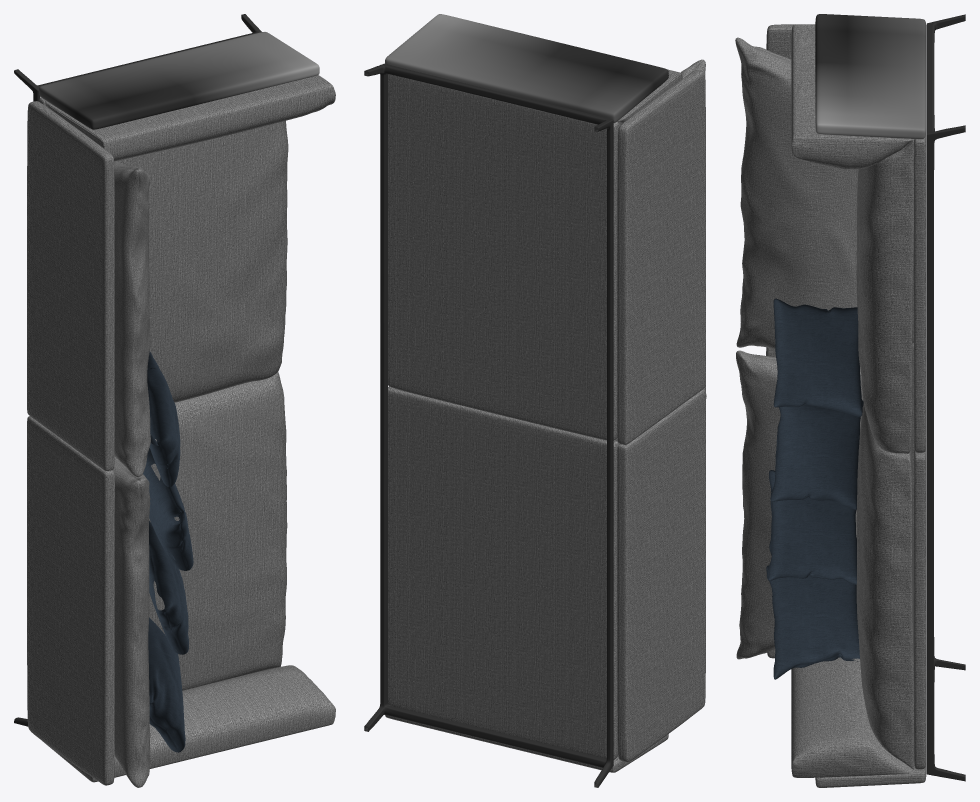
Rendered from Fauborg Sofa N021025.obj.
3 views of the same model, side by side, from view 1: azimuth 30°, elevation 25°; view 2: azimuth 150°, elevation 25°; view 3: azimuth 270°, elevation 25° (orthographic).
Visible parts, largest first — view 1: Object003_Retopo, Object004_Retopo, Object008, Object007, Object012, Object001_Retopo, Object002_Retopo, Object005, Object006, Object013_Retopo, Object014_Retopo, Object015_Retopo (+2 smaller); view 2: Object010, Object011, Object008, Object007, Object012, frame_Retopo, Object009, Object006; view 3: Object002_Retopo, Object004_Retopo, Object003_Retopo, Object012, Object001_Retopo, Object005, Object016_Retopo, Object015_Retopo, Object013_Retopo, frame_Retopo, Object014_Retopo, Object006 (+5 smaller).
Boxes of the visible parts, x1,y1,x2,y2 form: Object003_Retopo: [46, 105, 288, 402]; Object004_Retopo: [149, 371, 287, 690]; Object008: [27, 101, 114, 470]; Object007: [27, 416, 114, 785]; Object012: [39, 32, 319, 129]; Object001_Retopo: [112, 456, 150, 787]; Object002_Retopo: [114, 161, 150, 477]; Object005: [114, 665, 335, 777]; Object006: [44, 75, 335, 161]; Object013_Retopo: [148, 617, 185, 752]; Object014_Retopo: [149, 521, 188, 654]; Object015_Retopo: [143, 435, 193, 570]; Object010: [388, 386, 618, 759]; Object011: [388, 74, 619, 440]; Object008: [617, 70, 705, 444]; Object007: [617, 389, 705, 762]; Object012: [385, 14, 668, 122]; frame_Retopo: [364, 63, 613, 787]; Object009: [385, 715, 668, 772]; Object006: [617, 69, 682, 125]; Object002_Retopo: [735, 37, 858, 349]; Object004_Retopo: [856, 404, 913, 769]; Object003_Retopo: [856, 140, 913, 453]; Object012: [815, 14, 926, 139]; Object001_Retopo: [736, 350, 863, 659]; Object005: [791, 657, 915, 777]; Object016_Retopo: [773, 298, 862, 416]; Object015_Retopo: [770, 400, 863, 509]; Object013_Retopo: [766, 538, 859, 679]; frame_Retopo: [926, 14, 965, 781]; Object014_Retopo: [766, 470, 857, 584]; Object006: [791, 24, 914, 169].
Size of the model in its own units: 93.03 by 241 by 75.64.
3 materials, 2 textured.
